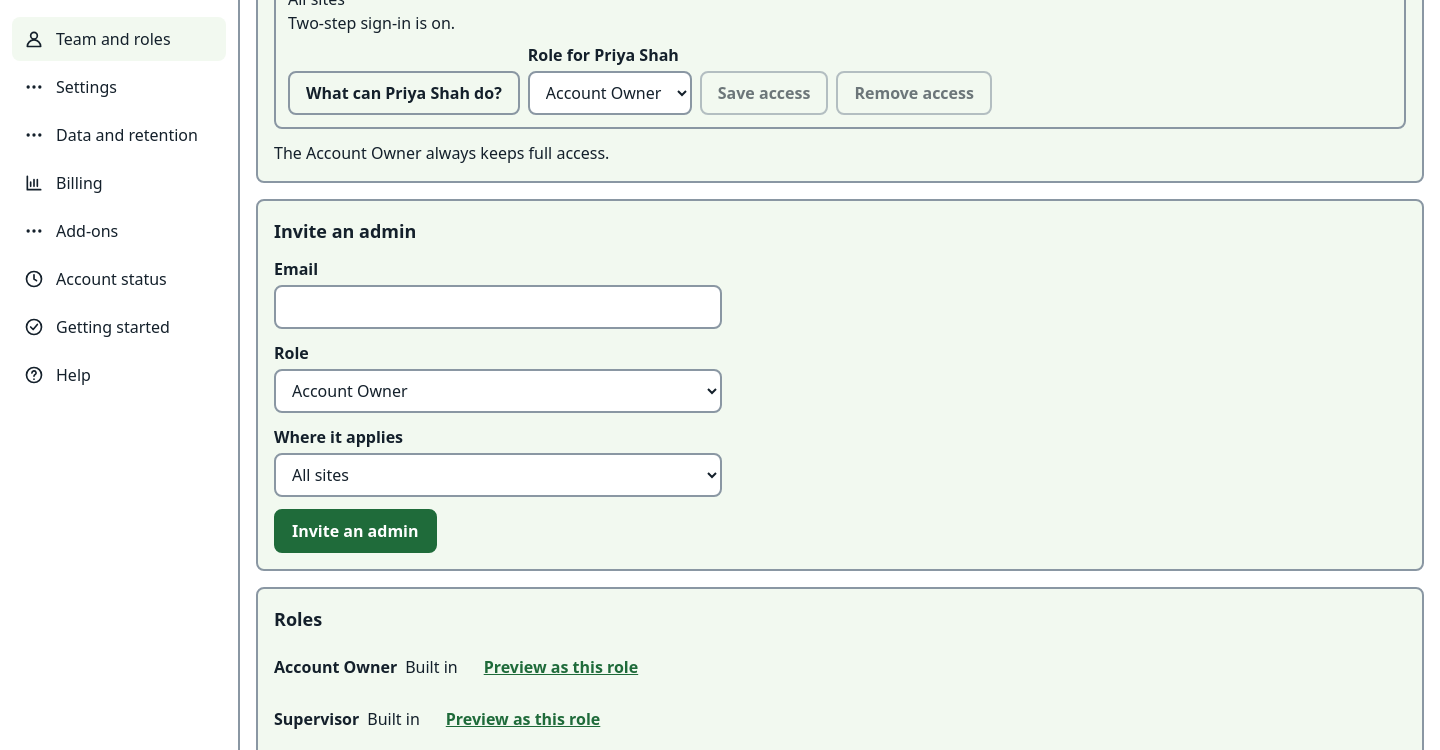
C18 Team and roles › invites an admin, then lists them and logs the change
This screenshot has width=1440, height=750.
(page scrolled)
Type "new.supervisor@littleacornsnursery.test" into the field labelled "Email" at (498, 307), box x1=274 y1=285 x2=722 y2=329
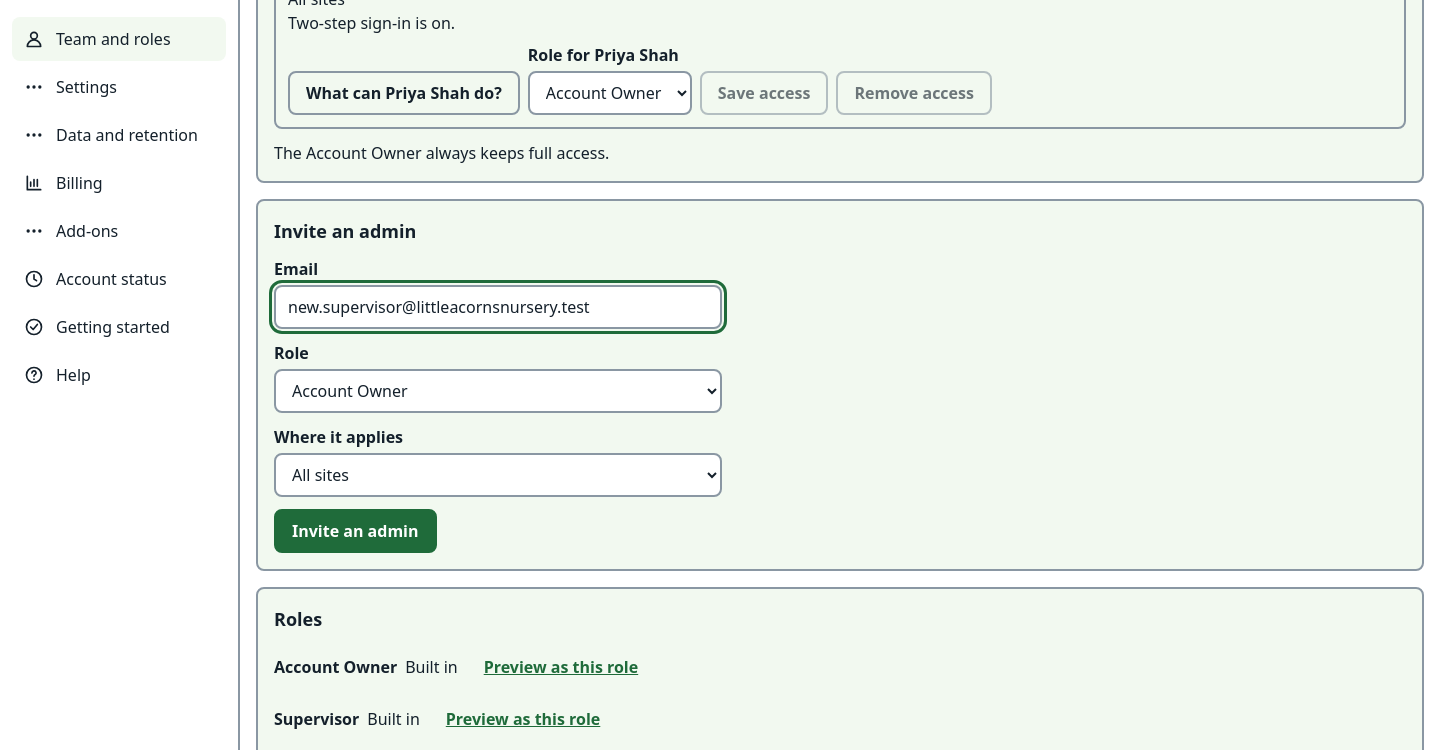
Select "Supervisor" in the dropdown labelled "Role" at (498, 391), box x1=274 y1=369 x2=722 y2=413
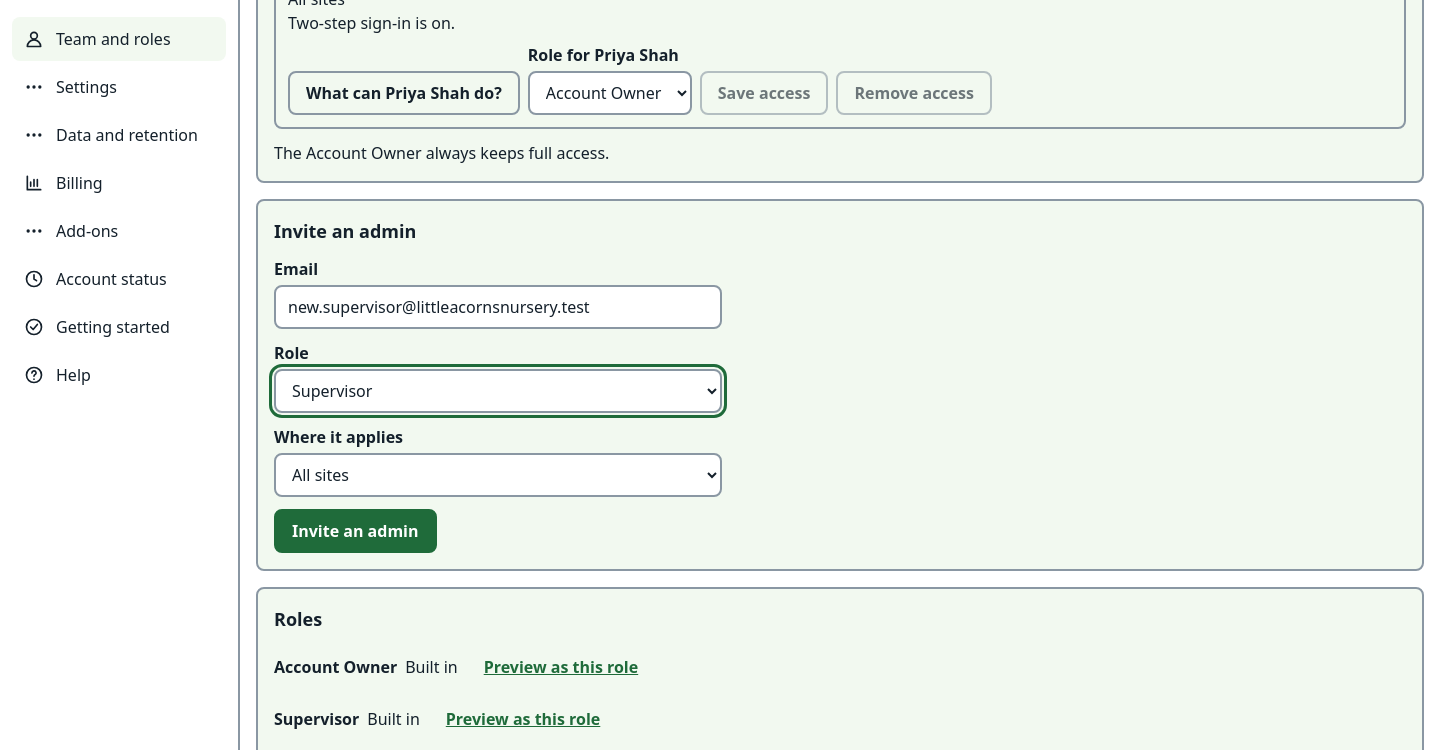
Click the button "Invite an admin" at (355, 531), box x1=274 y1=509 x2=436 y2=553
(page scrolled)
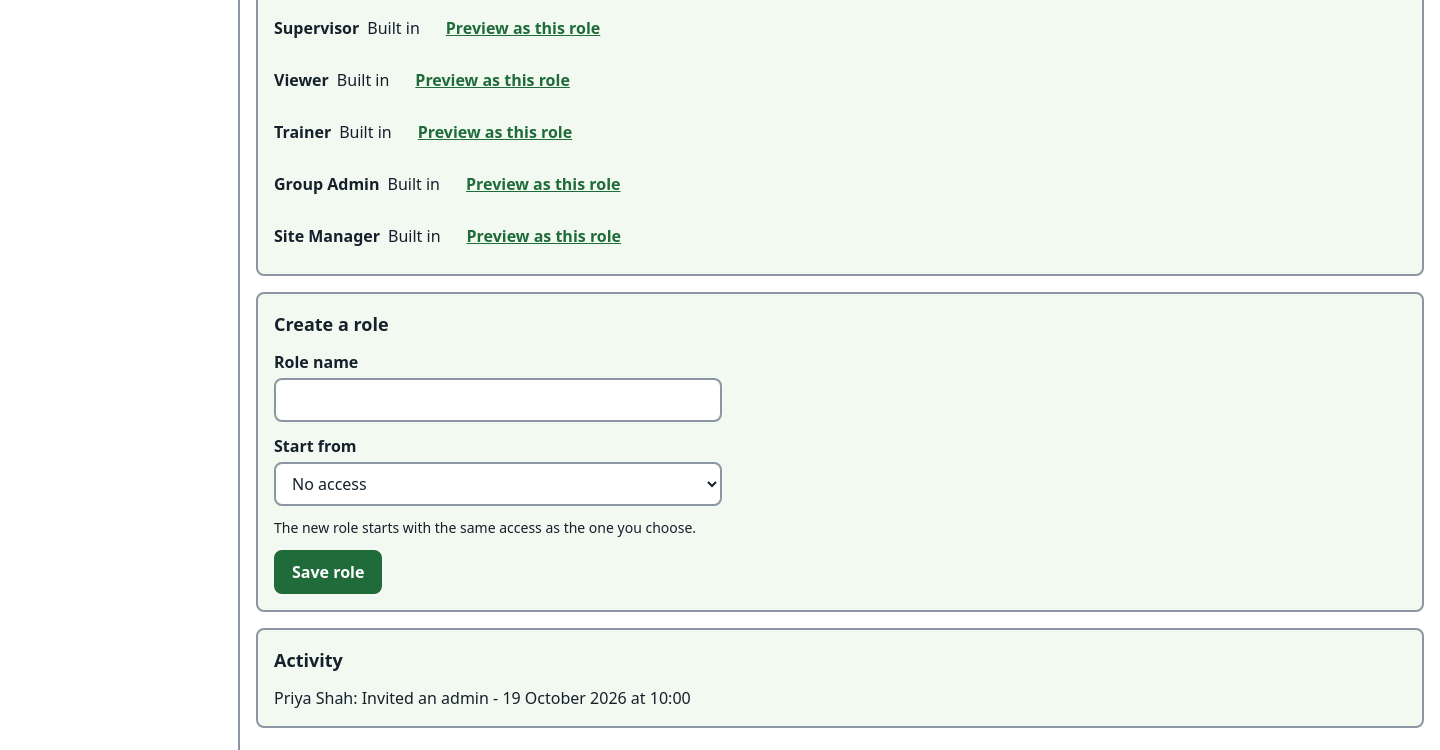
Check: the list item "Priya Shah: Invited an admin - 19 October 2026 at 10:00" is shown, box x1=274 y1=687 x2=691 y2=709
